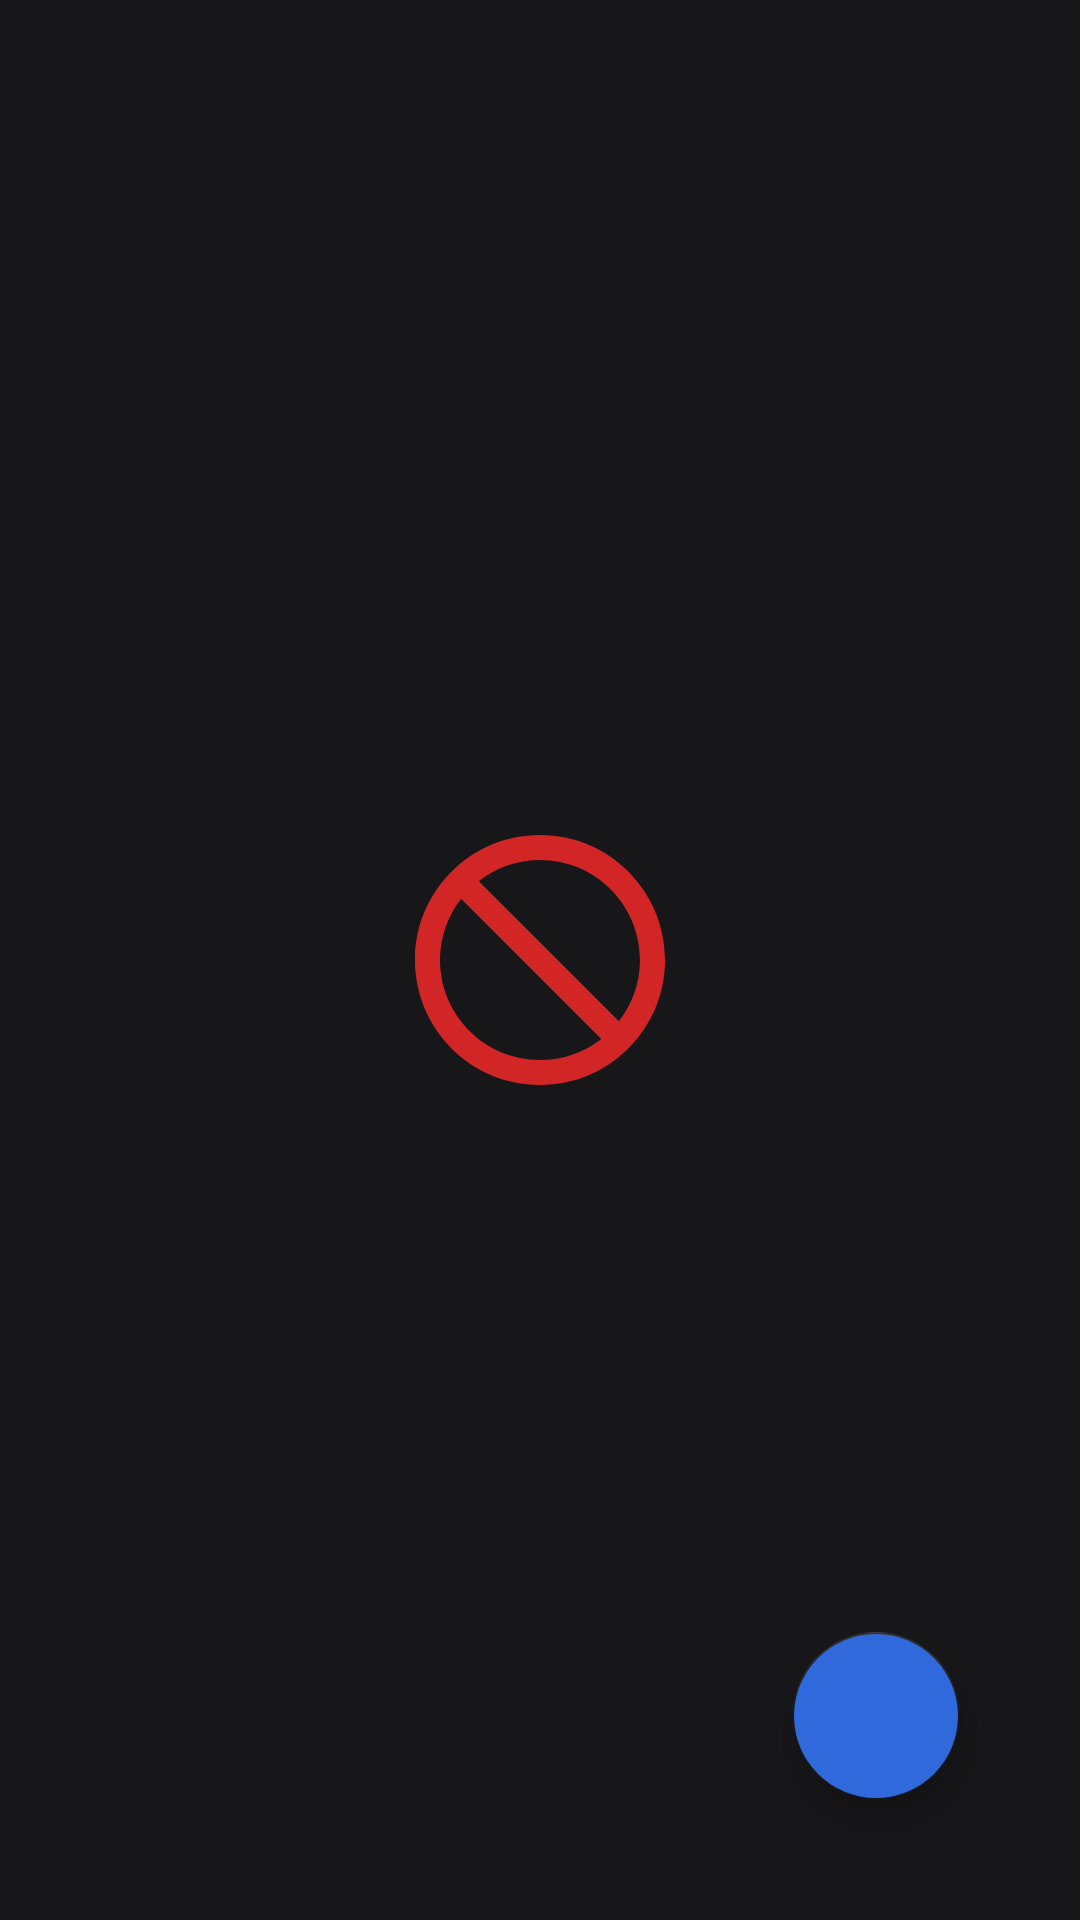

Named icons in this screenshot (1080x1920) and their bounding boxes, (x1=x1, y1=y1, x2=x2, y2=y2):
not allowed: (x1=415, y1=835, x2=665, y2=1085)
